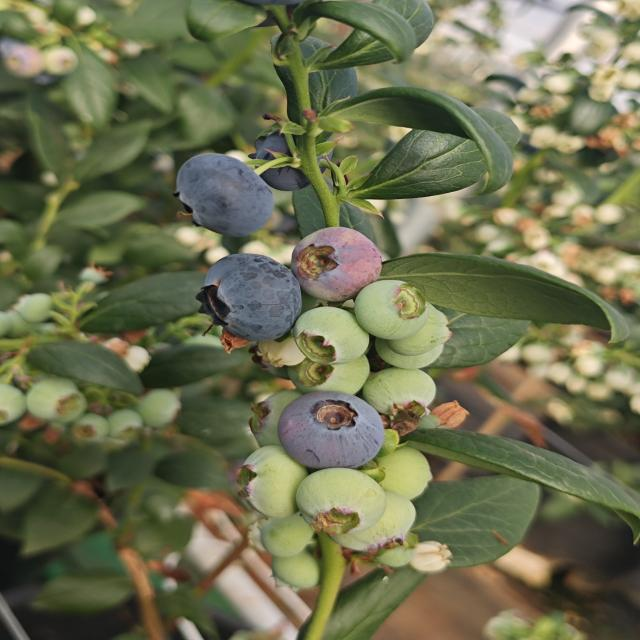ripe: (194, 252, 304, 344), (171, 151, 276, 239), (275, 390, 387, 470), (288, 225, 384, 305), (252, 122, 335, 196)
